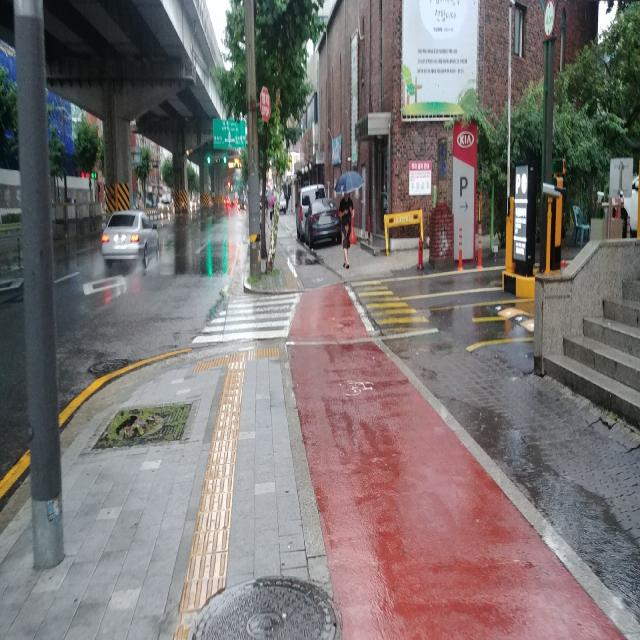횡단보도: (191, 291, 302, 345)
